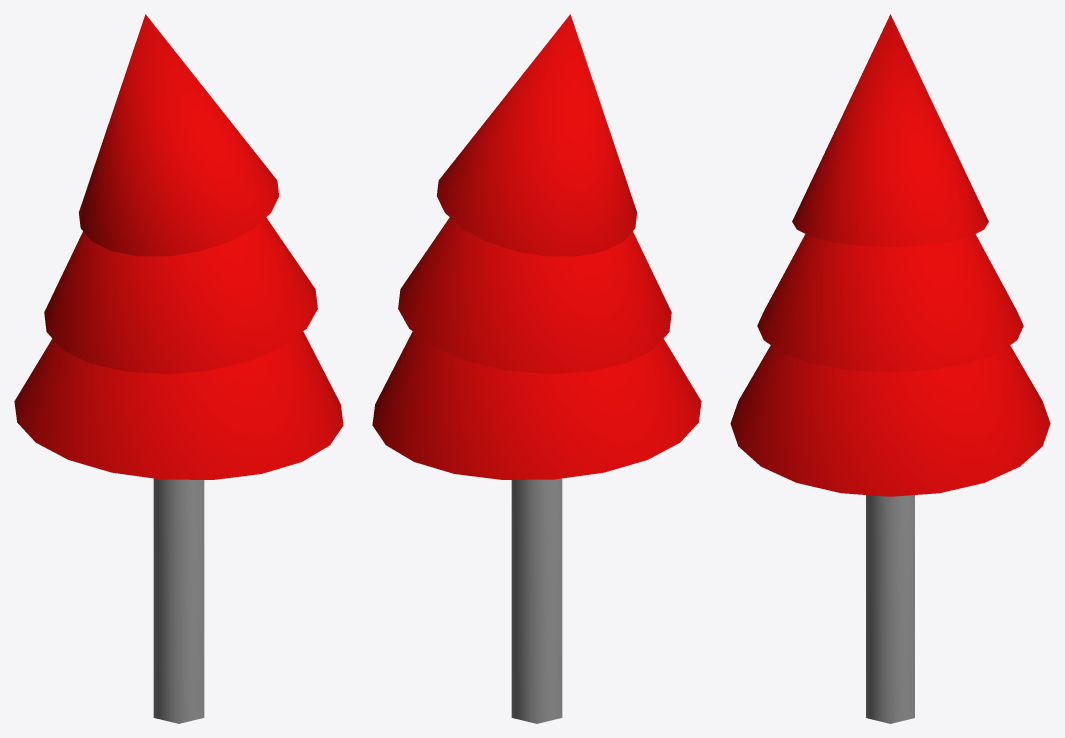
File: SM_Tree.fbx
3 renders of one model, left to right at view 1: azimuth 30°, elevation 25°; view 2: azimuth 150°, elevation 25°; view 3: azimuth 270°, elevation 25°, orthographic. The views are drawn at different scales.
Visible parts, largest first — view 1: SM_TreeTop01, SM_TreeTop02, SM_TreeTop03, SM_TreeTrunk; view 2: SM_TreeTop01, SM_TreeTop02, SM_TreeTop03, SM_TreeTrunk; view 3: SM_TreeTop01, SM_TreeTop02, SM_TreeTop03, SM_TreeTrunk.
Boxes of the visible parts, x1,y1,x2,y2 form: SM_TreeTop01: (14,331,343,479); SM_TreeTop02: (44,217,317,374); SM_TreeTop03: (78,14,278,256); SM_TreeTrunk: (153,478,204,723); SM_TreeTop01: (372,331,701,479); SM_TreeTop02: (398,217,671,374); SM_TreeTop03: (437,14,637,256); SM_TreeTrunk: (511,478,562,723); SM_TreeTop01: (730,345,1050,496); SM_TreeTop02: (757,234,1023,372); SM_TreeTop03: (792,14,988,246); SM_TreeTrunk: (866,495,914,723).
Size of the model in its own units: 11.76 by 27.68 by 11.77.
